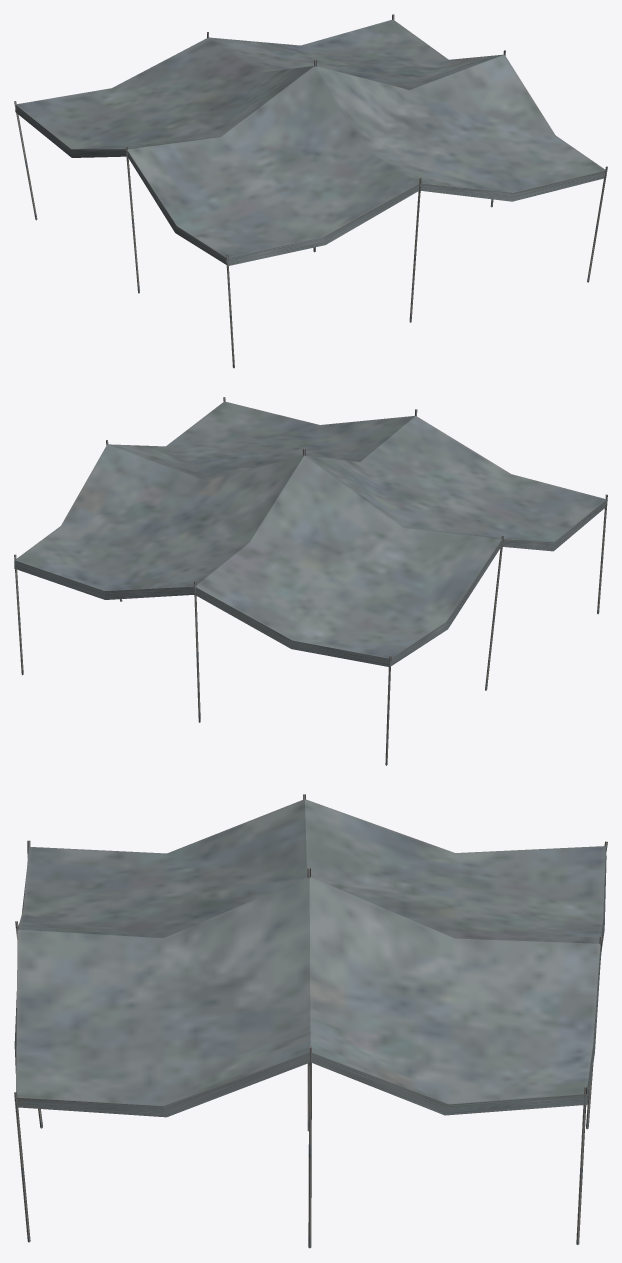
The model's file is poi_all_tent_large_l2.fbx.
The picture shows the model from 3 angles, top to bottom: view 1: azimuth 30°, elevation 25°; view 2: azimuth 150°, elevation 25°; view 3: azimuth 270°, elevation 25°; orthographic projection. The views are drawn at different scales.
Parts seen in each view (by area): view 1: mesh_node; view 2: mesh_node; view 3: mesh_node.
Boxes of the visible parts, left/top/right/bottom form: mesh_node: left=14, top=14, right=607, bottom=368; mesh_node: left=14, top=397, right=607, bottom=765; mesh_node: left=14, top=794, right=607, bottom=1248.
Size of the model in its own units: 10.88 by 5.21 by 10.65.
Materials: 2 (2 with a texture image).
